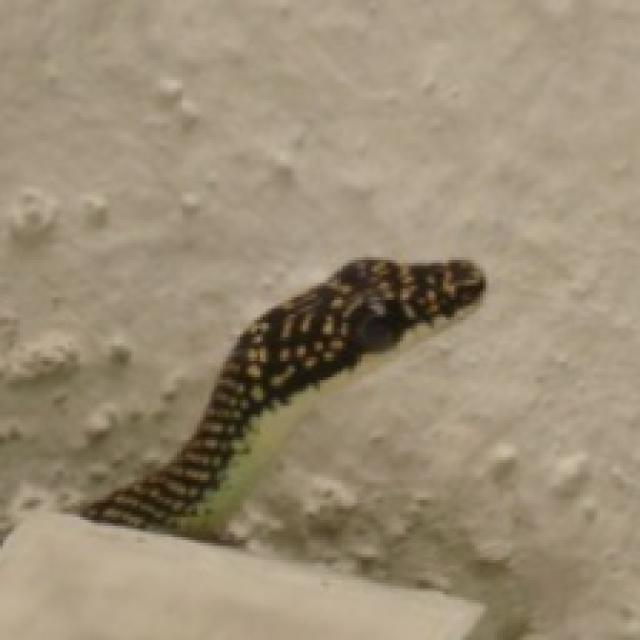paradise tree snake: (0, 260, 483, 637), (83, 257, 483, 526)
